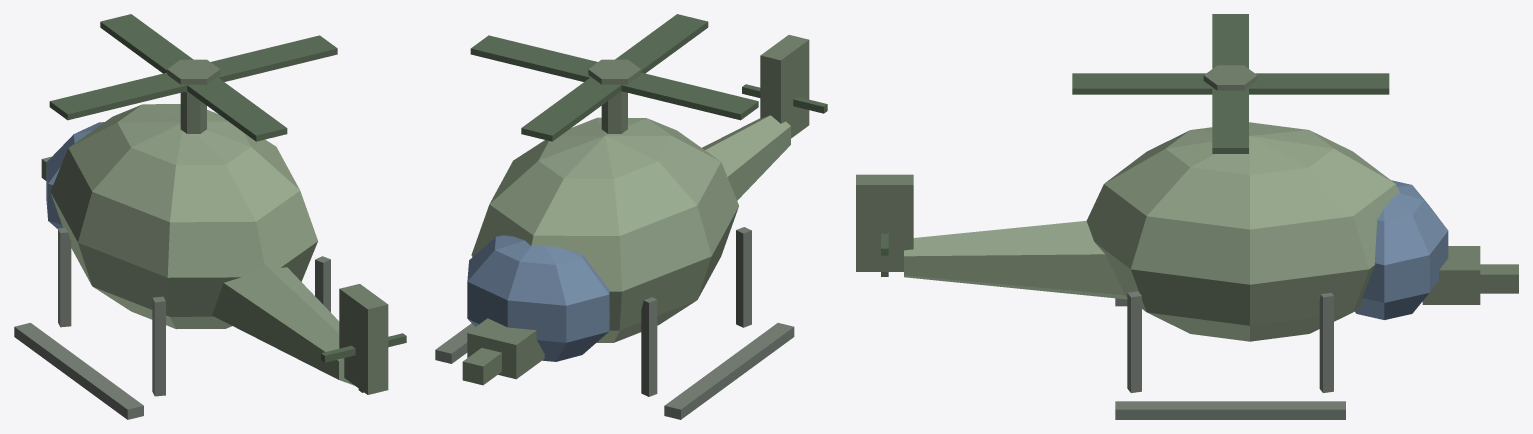
The model's file is unit_helicopter.glb.
3 renders of one model, left to right at view 1: azimuth 30°, elevation 25°; view 2: azimuth 150°, elevation 25°; view 3: azimuth 270°, elevation 25°, orthographic.
Parts seen in each view (by area): view 1: unit_helicopter; view 2: unit_helicopter; view 3: unit_helicopter.
Boxes of the visible parts, x1=… form: unit_helicopter: x1=14, y1=14, x2=406, y2=419; unit_helicopter: x1=435, y1=14, x2=827, y2=419; unit_helicopter: x1=856, y1=14, x2=1518, y2=419.
Bounding box in the file's own units: 0.33 × 0.326 × 0.69.
